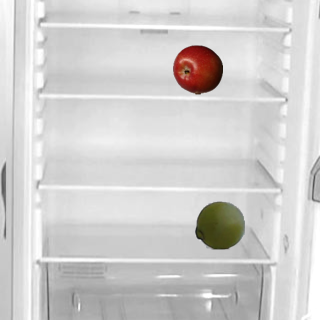Apple Braeburn: (172, 44, 222, 94)
Grape White 4: (194, 199, 244, 249)
